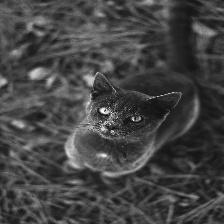kedo: (74, 72, 180, 175)
